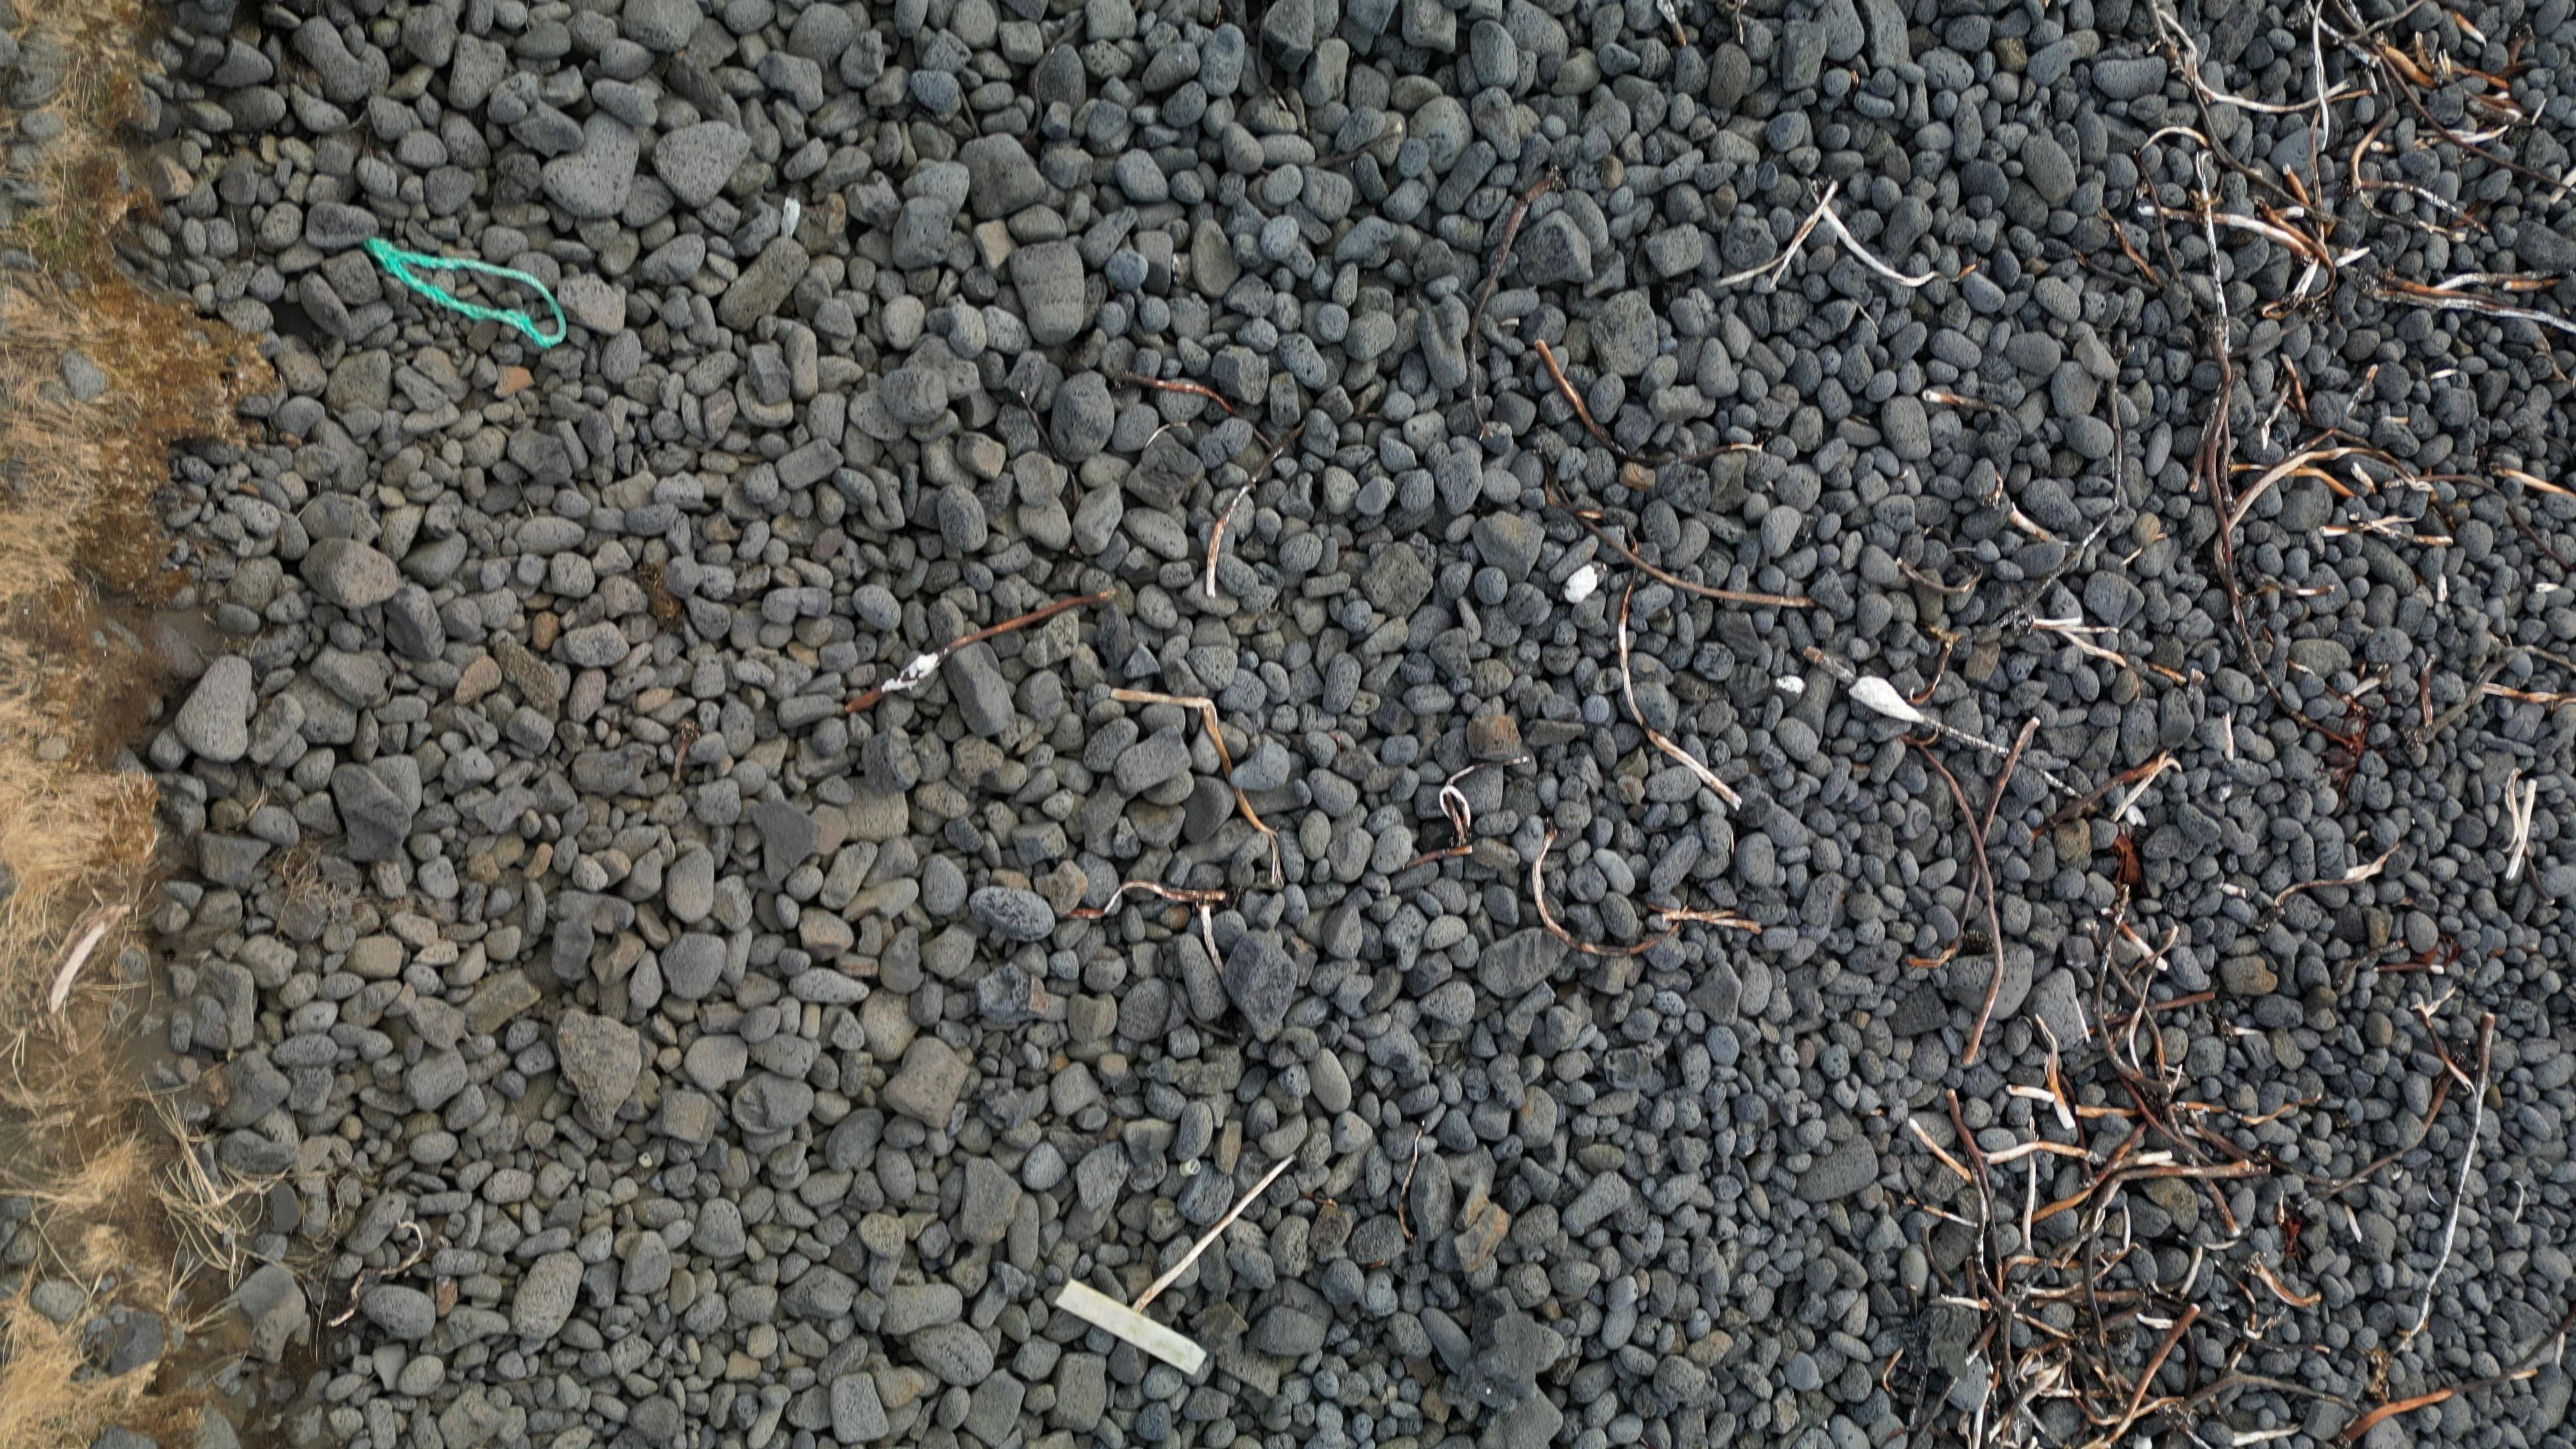trash: (363, 237, 568, 347)
